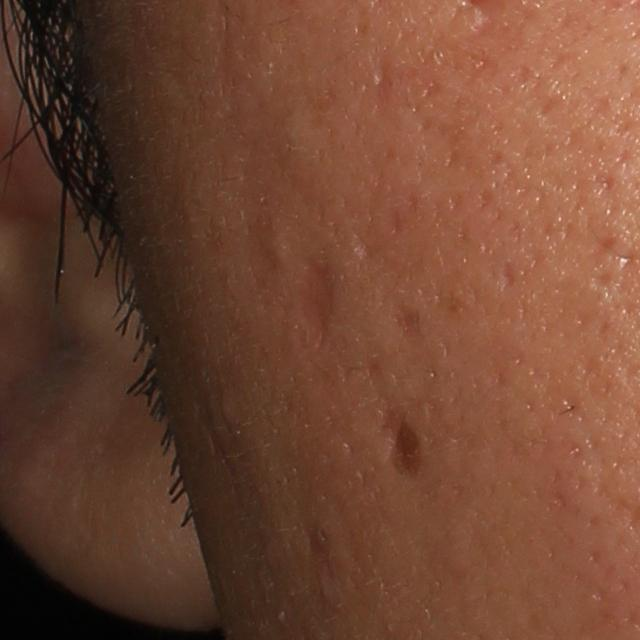atrophic_scar: (229, 96, 341, 322), (294, 259, 340, 351), (347, 210, 388, 271), (494, 263, 522, 290)
